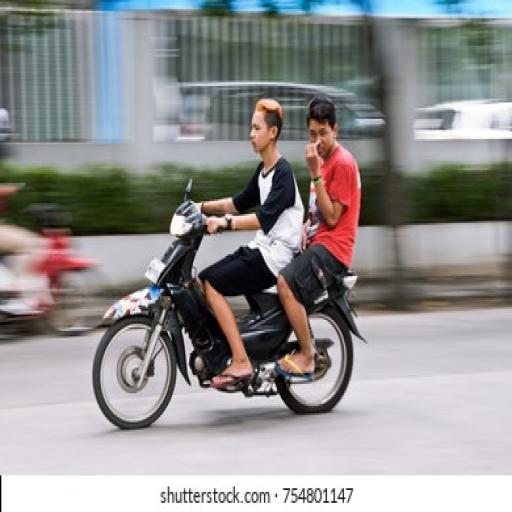no_helm: (235, 82, 294, 162), (300, 80, 350, 169)
